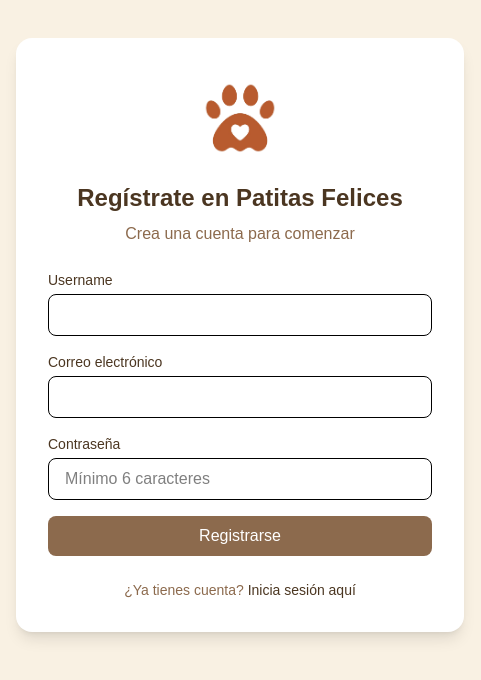
Test: RegisterPage › muestra mensaje de error si falla el registro
Type "G" into the field labelled "Username" at (240, 315), box top-left (48, 294), bottom-right (432, 336)
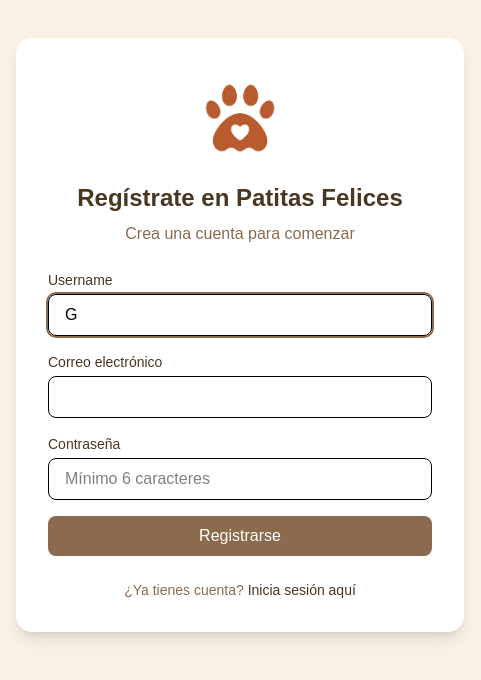
Type "g@test.com" into the field labelled "Correo electrónico" at (240, 397), box top-left (48, 376), bottom-right (432, 418)
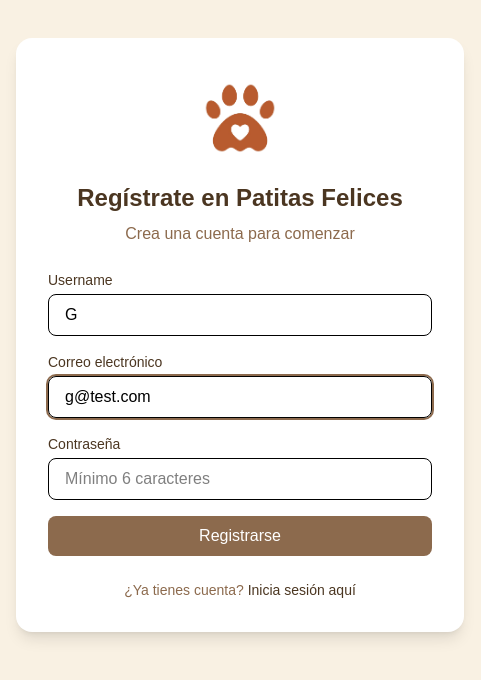
Type "123456" into the password field labelled "Contraseña" at (240, 479), box top-left (48, 458), bottom-right (432, 500)
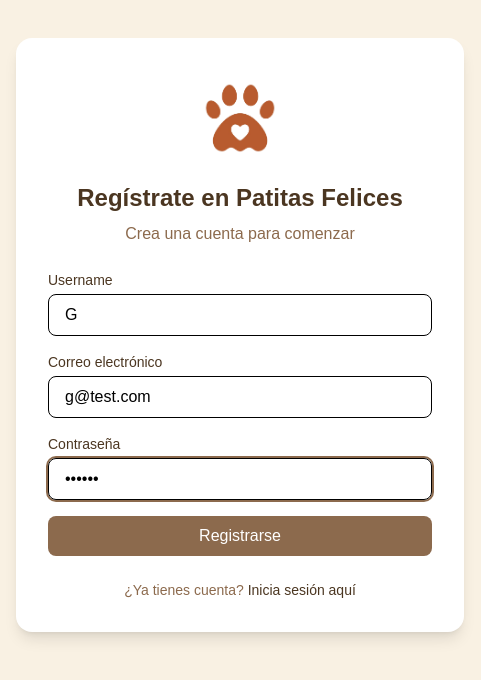
Click the button "Registrarse" at (240, 536), box top-left (48, 516), bottom-right (432, 556)
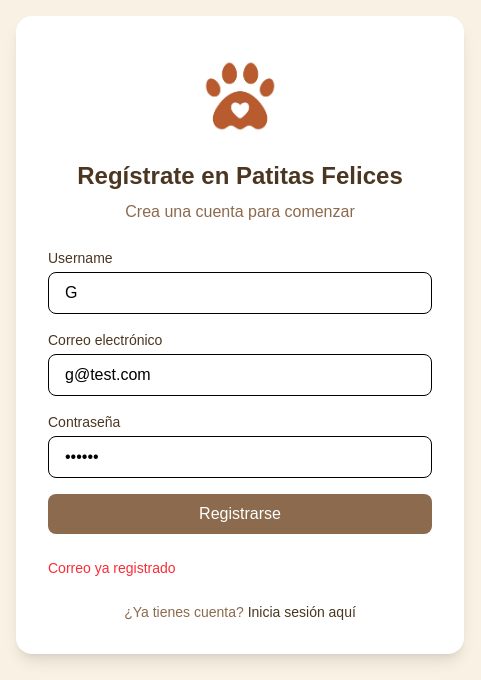
Expected: the message reads "Correo ya registrado", top-left (48, 560), bottom-right (176, 576)
